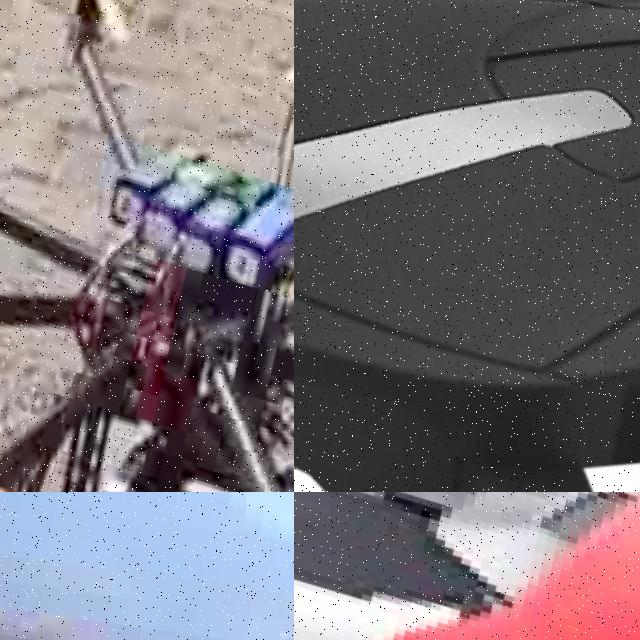drone: (294, 0, 640, 492), (0, 0, 294, 492), (294, 492, 640, 640)
